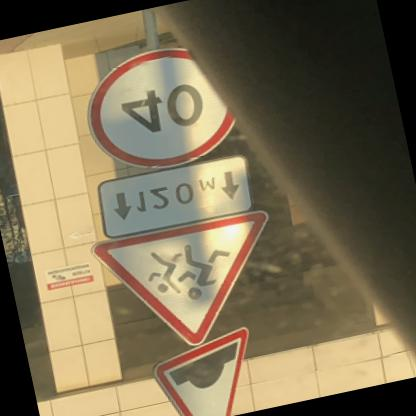speedlimit: (74, 38, 238, 182)
